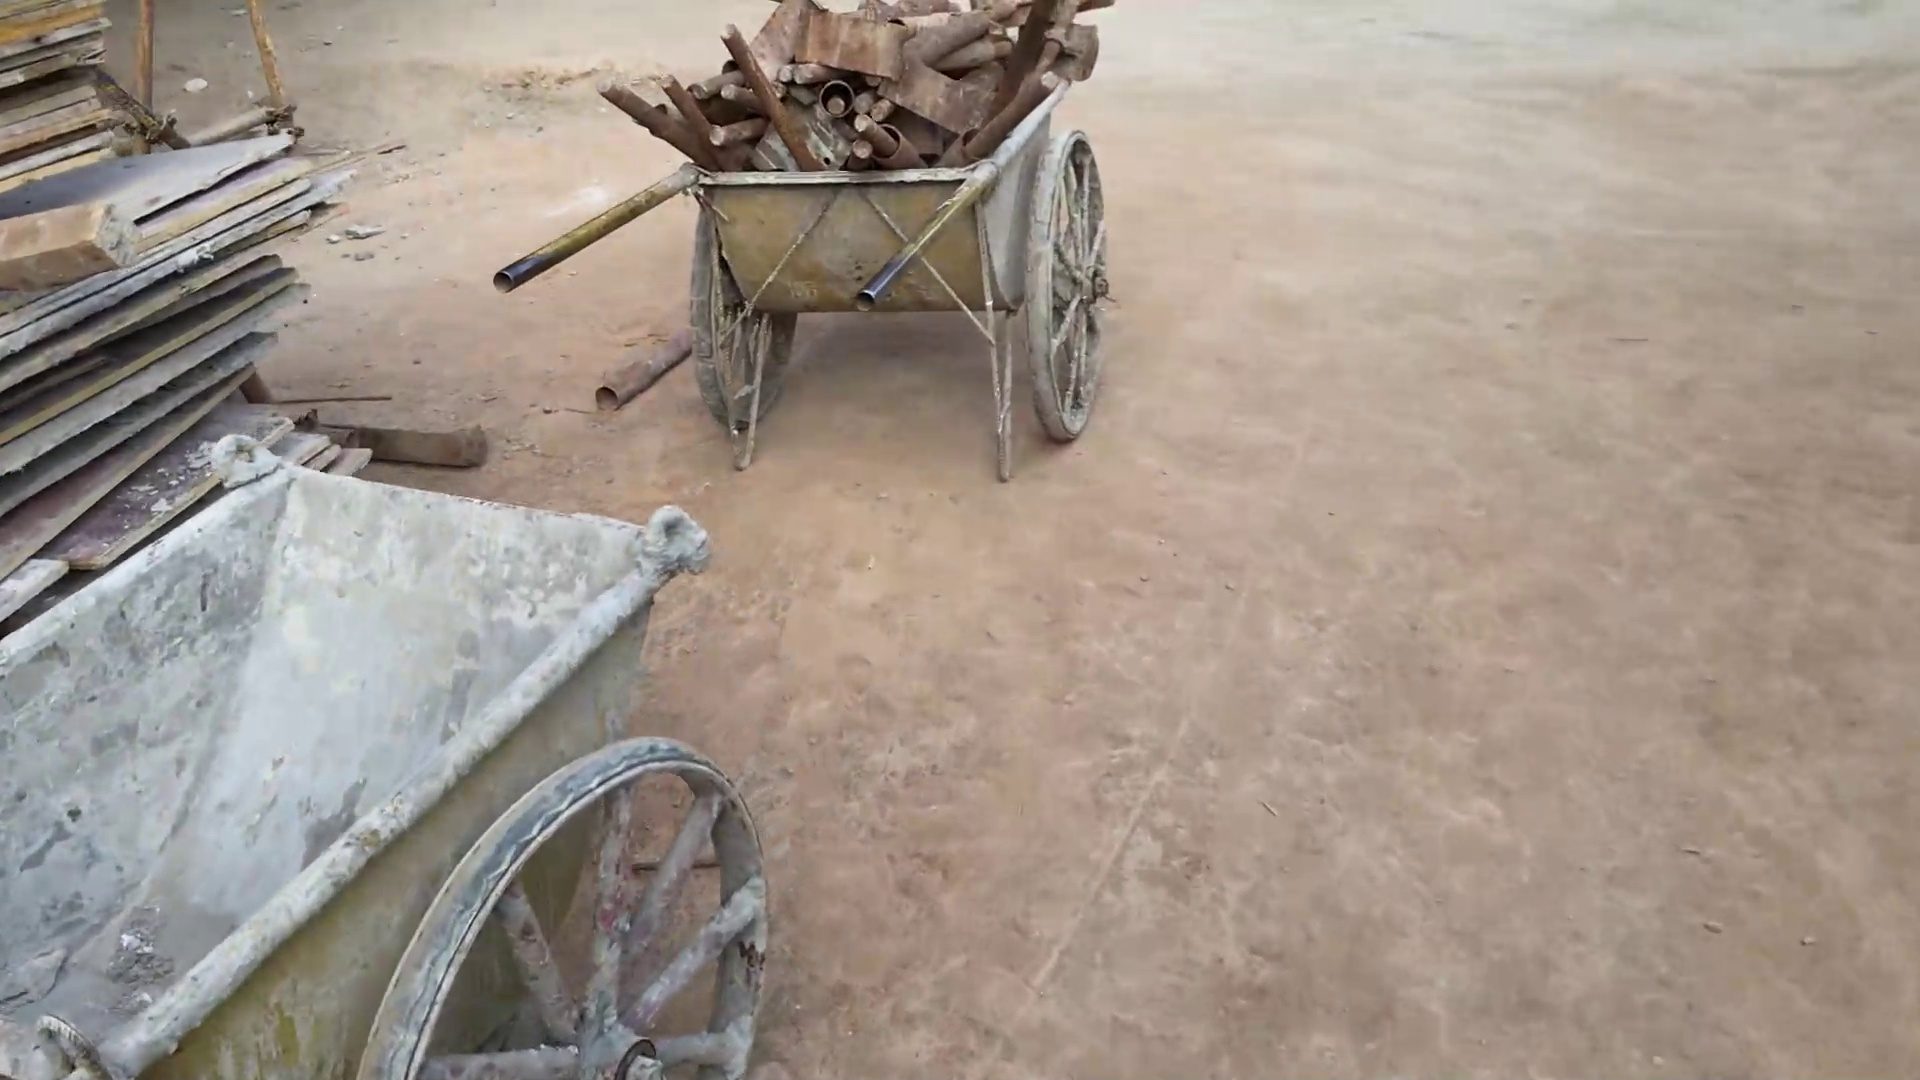board: (1, 5, 355, 626)
handcart: (1, 421, 789, 1080), (481, 109, 1134, 497)
